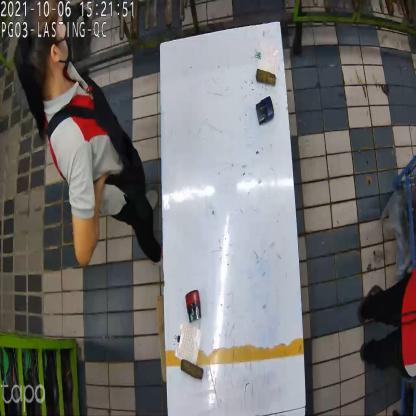stamp: (184, 291, 204, 326), (256, 96, 274, 128)
